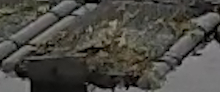bag: (5, 3, 220, 88)
